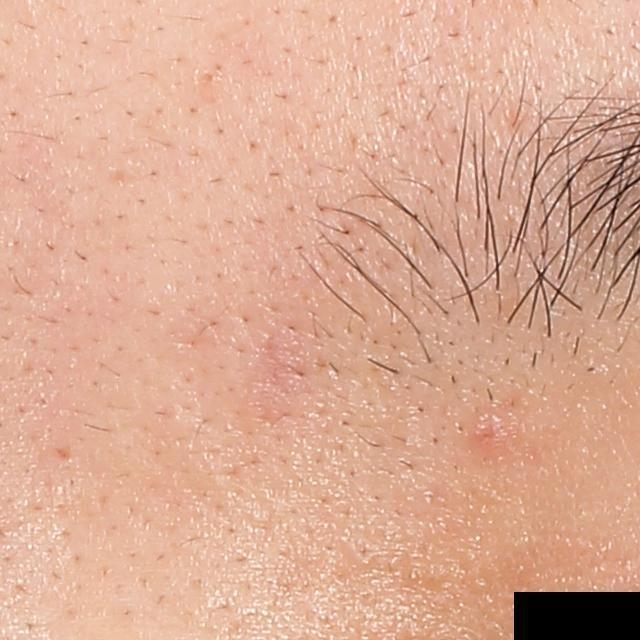papule: (469, 408, 519, 458)
